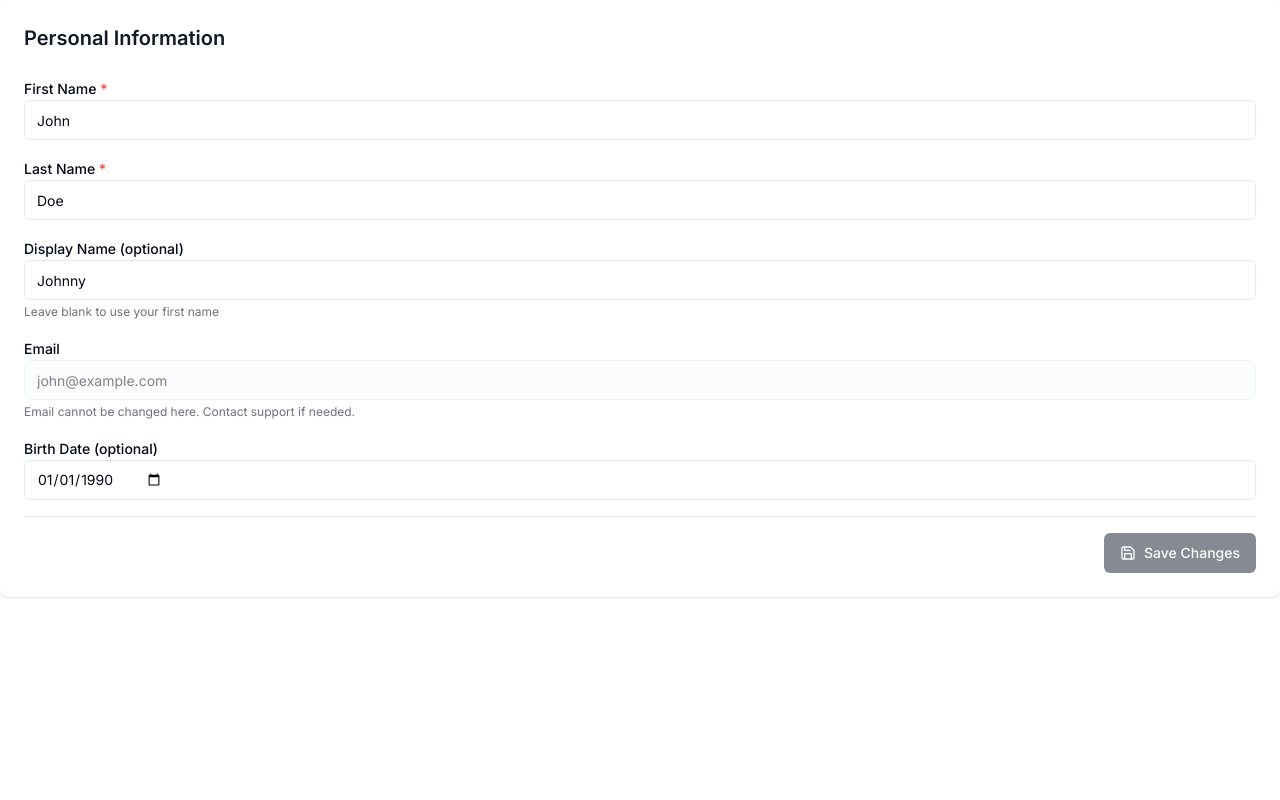
Test: PersonalInfoForm › should show validation errors for required fields
The width and height of the screenshot is (1280, 800).
Note: Clear required fields (fields are already editable)
Step 1. Clear the field labelled "First Name *" → (640,120), box [24,100,1256,140]
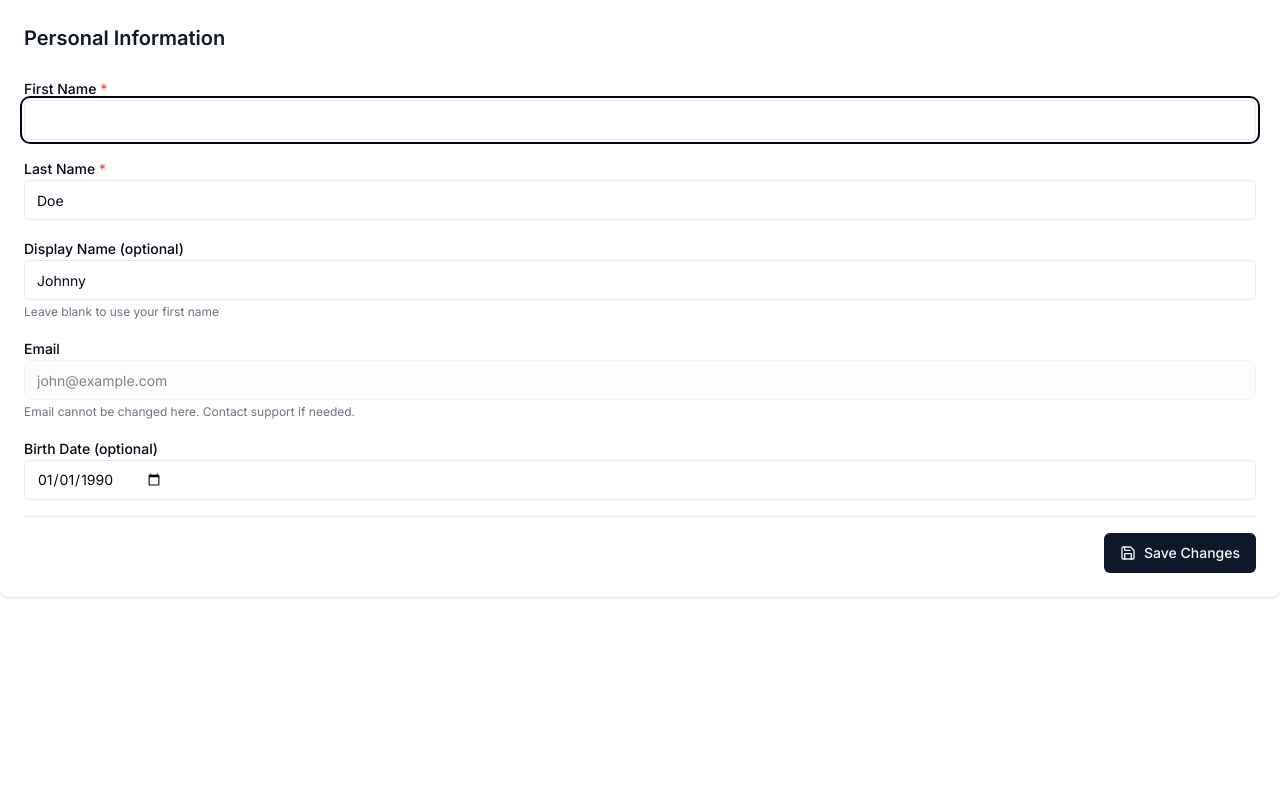
Note: Try to submit
Step 2. Click the button "Save Changes" → (1180,553), box [1104,533,1256,573]
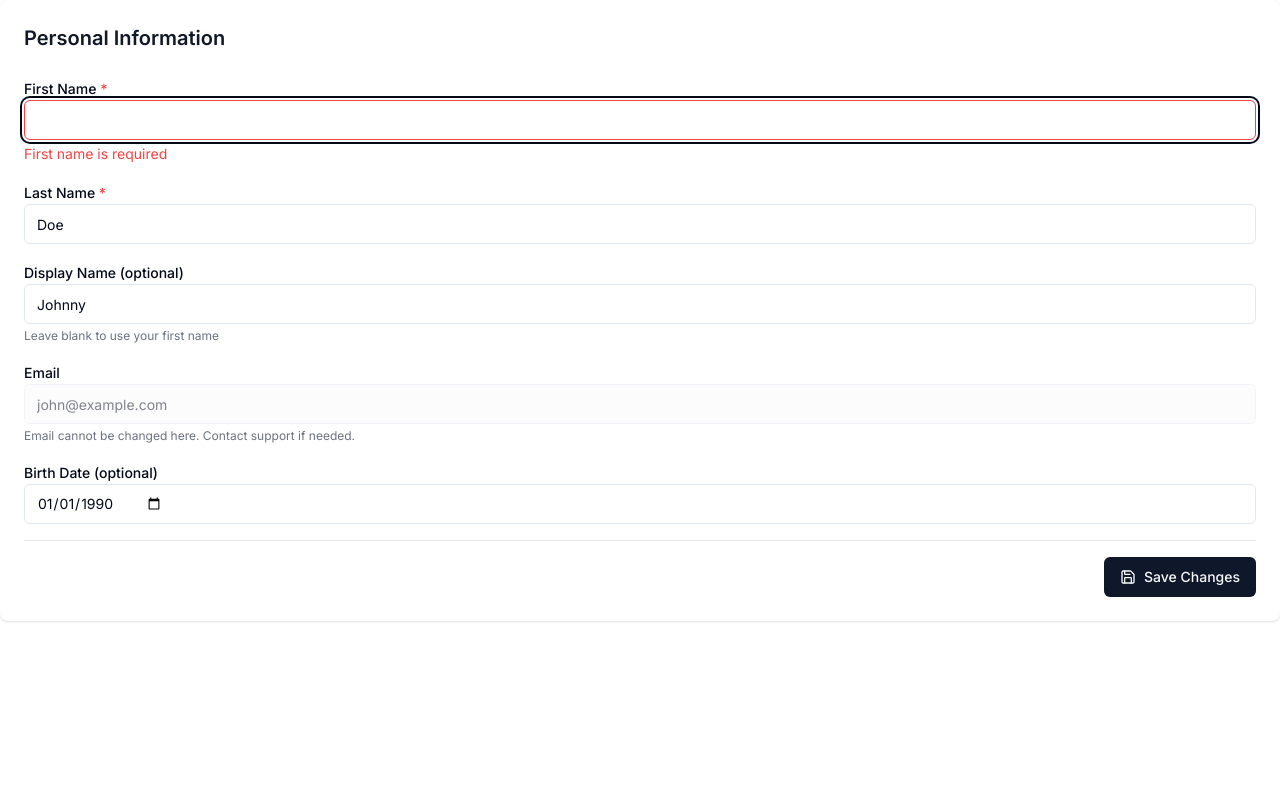
Result: the text "First name is required" is shown at [24,145,167,162]
